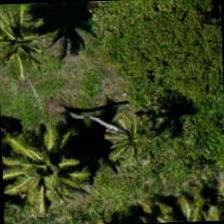Kelapa_Sawit: (10, 116, 103, 208), (76, 93, 168, 186), (0, 2, 56, 81)
